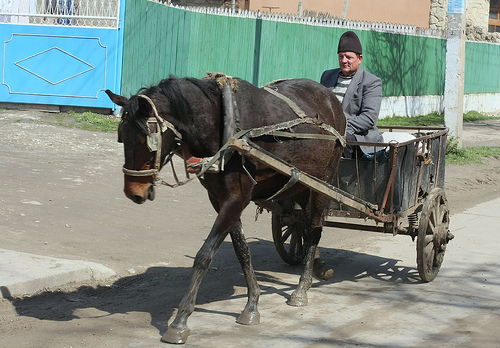horse: (105, 73, 351, 345)
